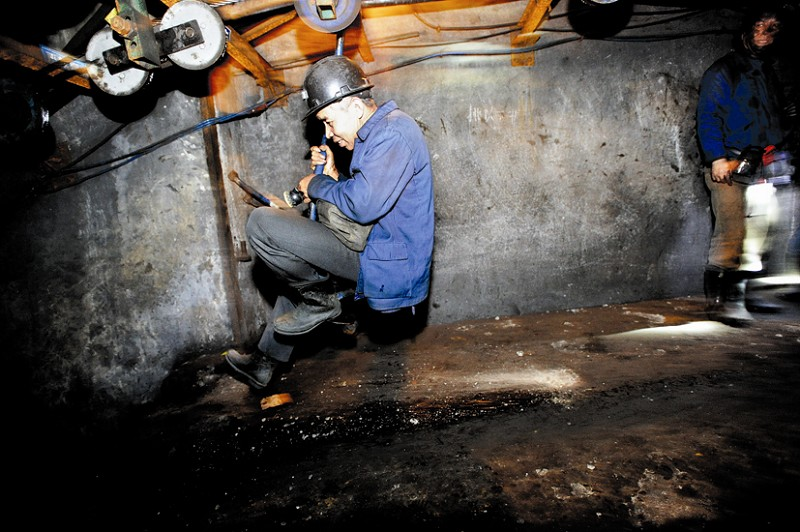helmet: (289, 50, 391, 158)
